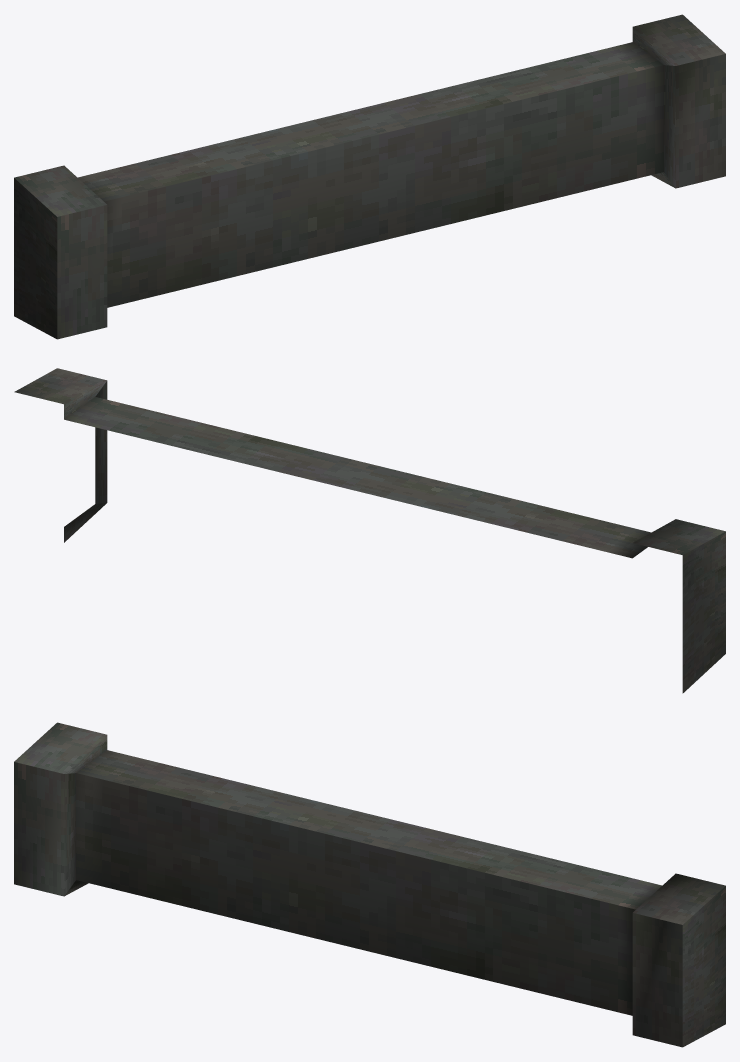
The model's file is Door_Bar_Metal.glb.
3 renders of one model, top to bottom at view 1: azimuth 30°, elevation 25°; view 2: azimuth 150°, elevation 25°; view 3: azimuth 330°, elevation 25°, orthographic.
Visible parts, largest first — view 1: DOOR_BAR_METAL; view 2: DOOR_BAR_METAL; view 3: DOOR_BAR_METAL.
Part boxes in pixels (x1,y1,x2,y2): DOOR_BAR_METAL: (14,14,725,339); DOOR_BAR_METAL: (14,368,725,693); DOOR_BAR_METAL: (14,722,725,1047).
Bounding box in the file's own units: 1 × 0.198 × 0.112.
Materials: 1 (1 with a texture image).
